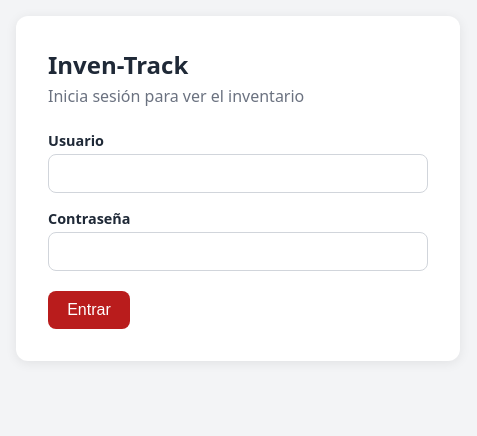
<Login /> › no llama al backend si falta la contraseña
The image size is (477, 436).
Type "admin" into the field labelled "Usuario" at (238, 174), box [48,154,428,193]
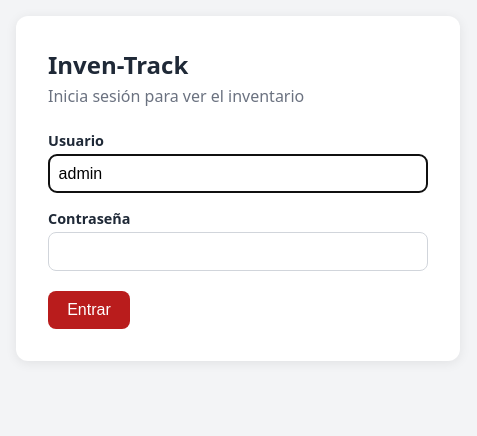
Click the button "Entrar" at (89, 310), box [48,291,130,329]
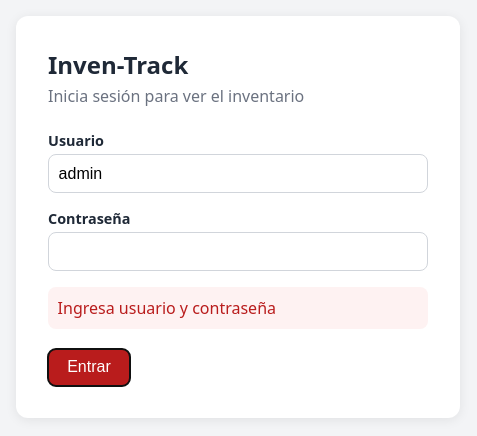
Expected: the message reads "Ingresa usuario y contraseña", [58,297,276,319]
